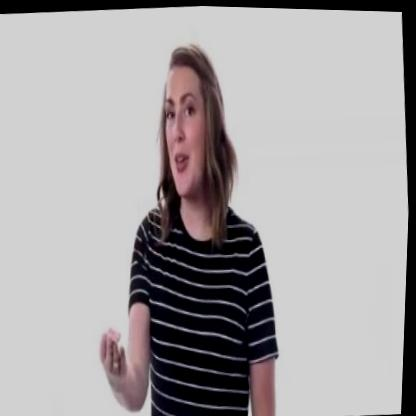ThankYou: (78, 35, 255, 410)
